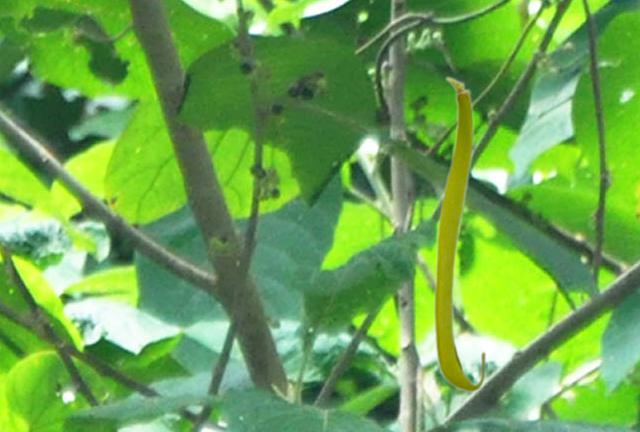french_bean: (432, 75, 486, 392)
